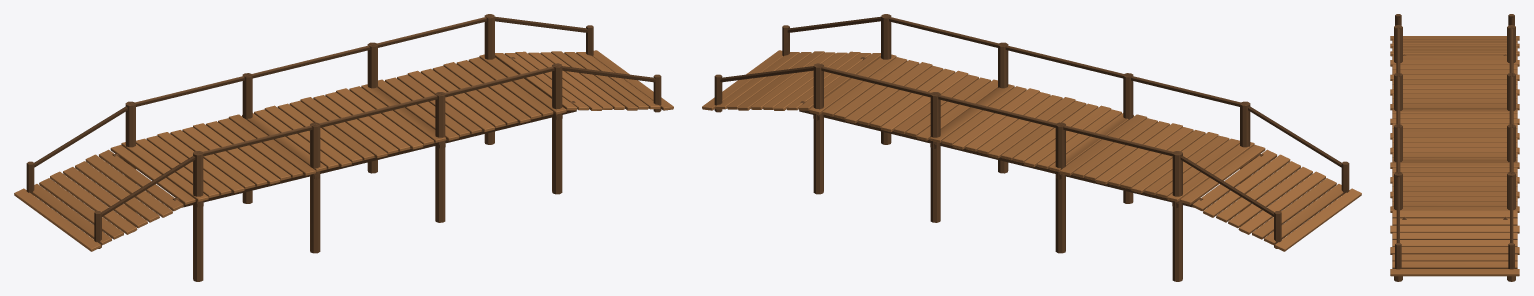
File: jembatan_kayu.glb
The picture shows the model from 3 angles, left to right: view 1: azimuth 30°, elevation 25°; view 2: azimuth 150°, elevation 25°; view 3: azimuth 270°, elevation 25°; orthographic projection. The views are drawn at different scales.
Parts seen in each view (by area): view 1: jembatan_kayu_mesh; view 2: jembatan_kayu_mesh; view 3: jembatan_kayu_mesh.
Part boxes in pixels (x1,y1,x2,y2): jembatan_kayu_mesh: (14,14,673,281); jembatan_kayu_mesh: (702,14,1361,281); jembatan_kayu_mesh: (1390,14,1519,281).
Size of the model in its own units: 13.97 by 2.91 by 3.2.
